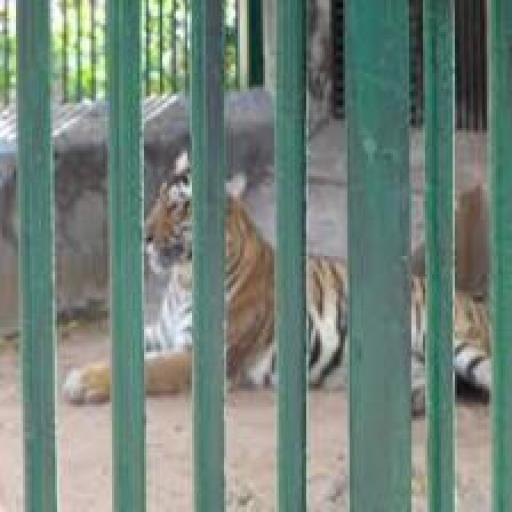Tiger: (61, 141, 512, 413)
